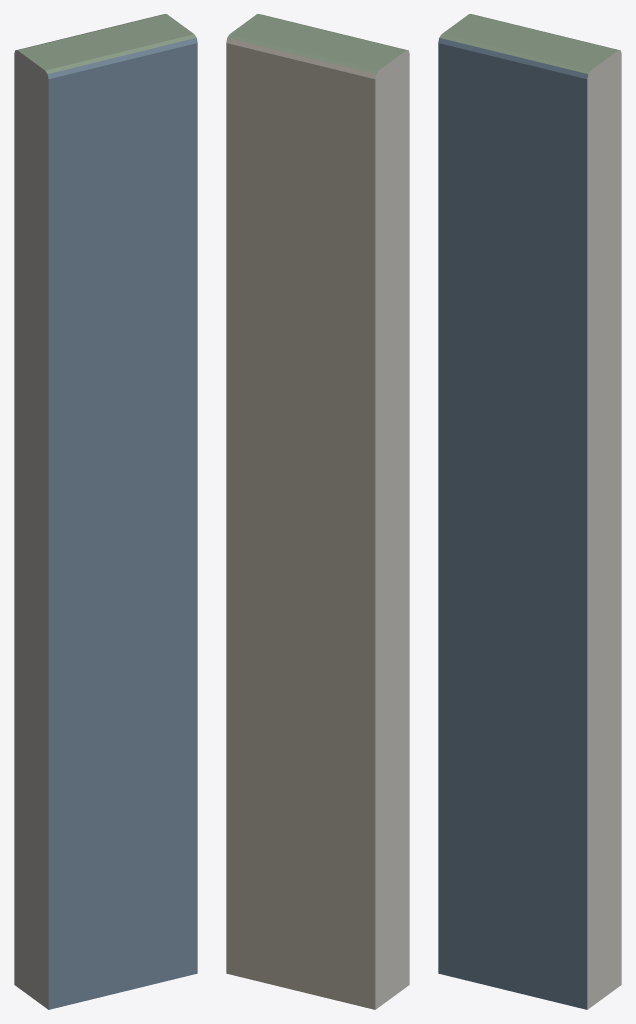
File: SM_Kit_Wall_Filler_50.glb
3 renders of one model, left to right at view 1: azimuth 30°, elevation 25°; view 2: azimuth 150°, elevation 25°; view 3: azimuth 330°, elevation 25°, orthographic.
Parts seen in each view (by area): view 1: SM_Kit_Wall_Filler_50; view 2: SM_Kit_Wall_Filler_50; view 3: SM_Kit_Wall_Filler_50.
Boxes of the visible parts, left/top/right/bottom form: SM_Kit_Wall_Filler_50: left=14, top=14, right=197, bottom=1009; SM_Kit_Wall_Filler_50: left=226, top=14, right=409, bottom=1009; SM_Kit_Wall_Filler_50: left=438, top=14, right=621, bottom=1009.
Size of the model in its own units: 0.5 by 3 by 0.2.
